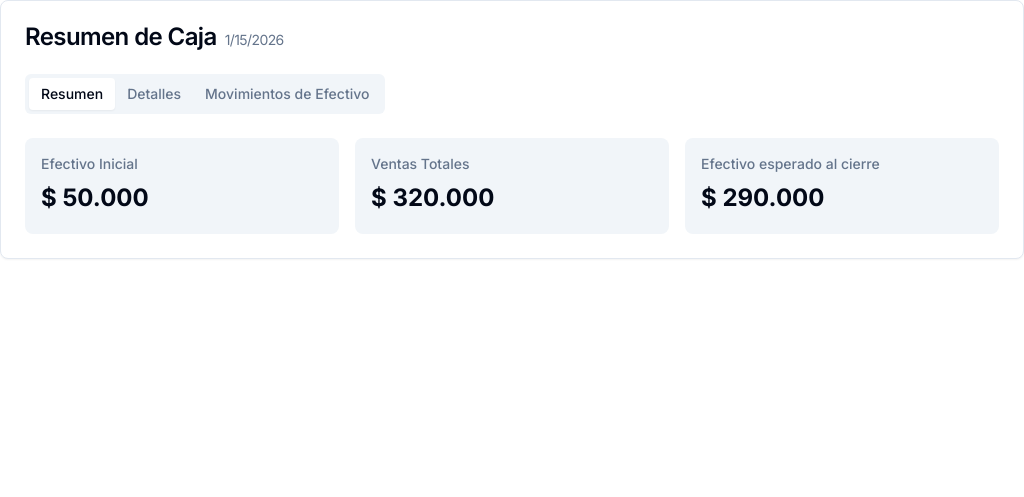
Test: CashRegisterSummary — one read of the cash movements, when the tab asks for them › does not read them again on a tab switch back and forth
Expected: the text "Resumen de Caja" is shown, [25,22,217,51]
Press the mouse on the tab "Movimientos de Efectivo" at (287, 94), box [193,78,381,110]
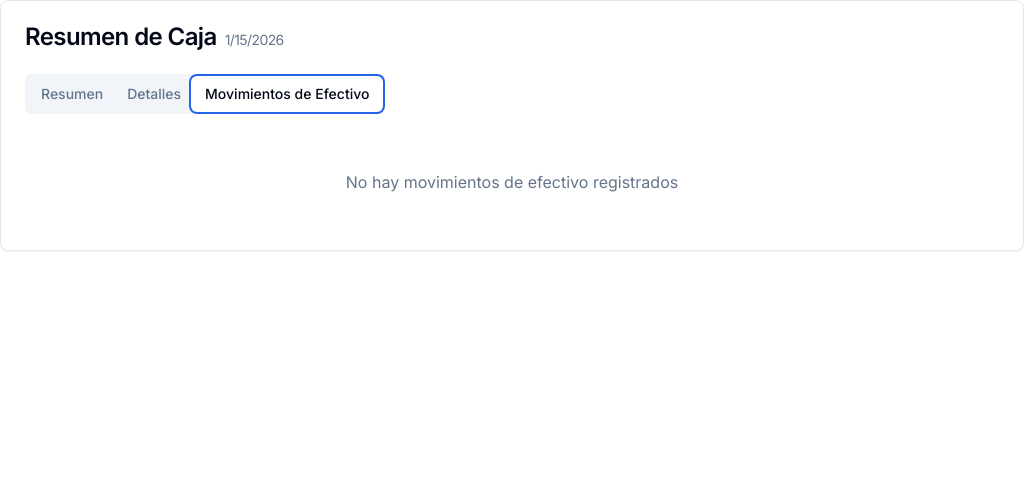
Press the mouse on the tab "Detalles" at (154, 94), box [115,78,193,110]
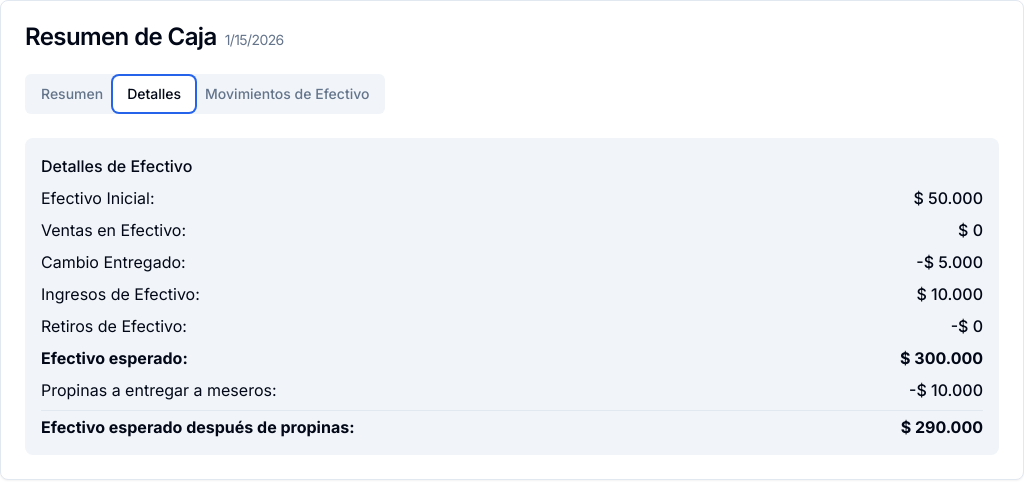
Press the mouse on the tab "Movimientos de Efectivo" at (287, 94), box [193,78,381,110]
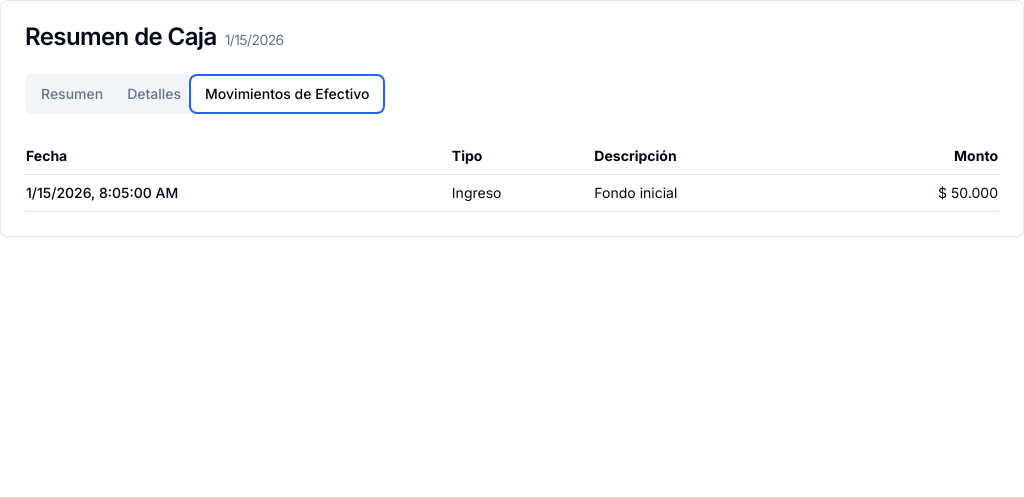
Expected: the text "Fondo inicial" is shown, [593,174,828,212]
